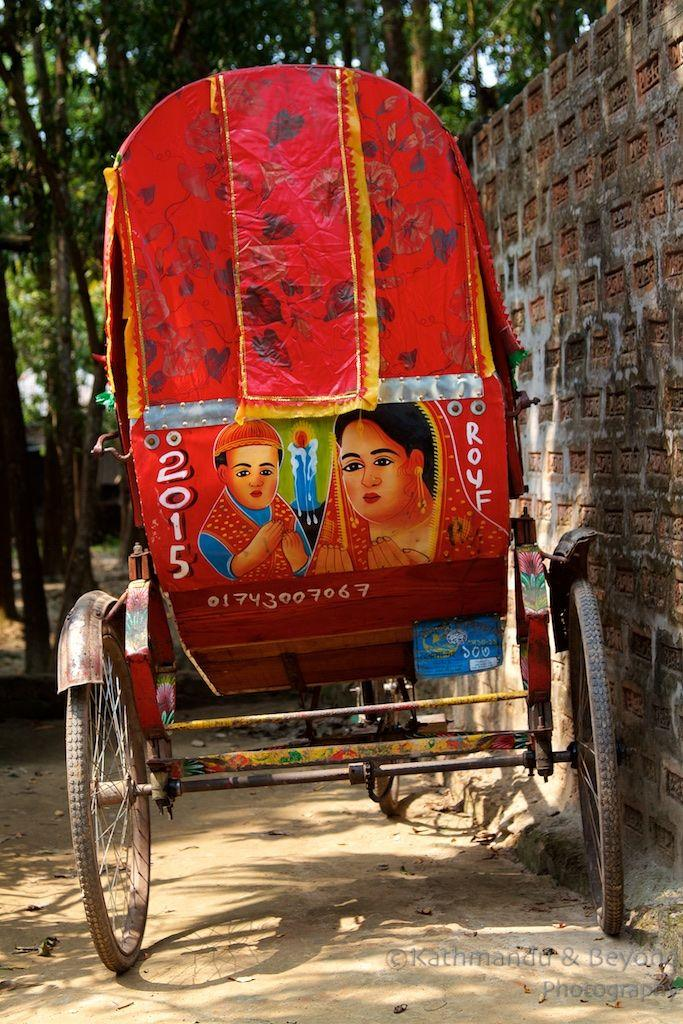Rickshaw: (59, 66, 622, 971)
